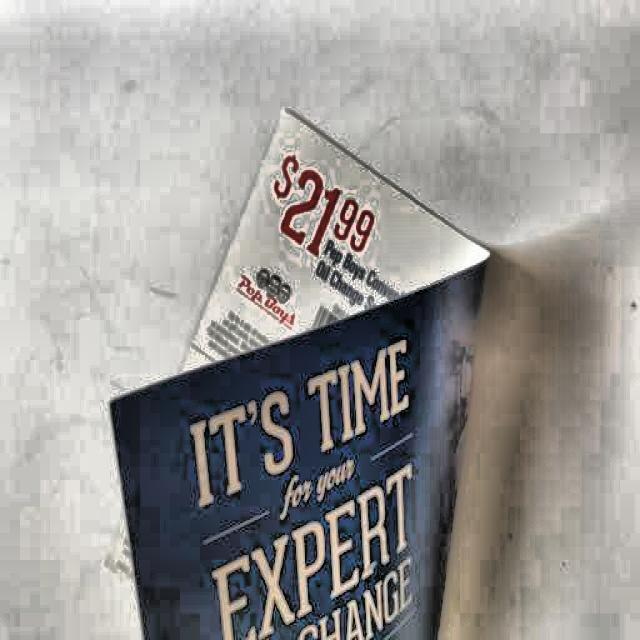paper: (99, 101, 494, 640)
